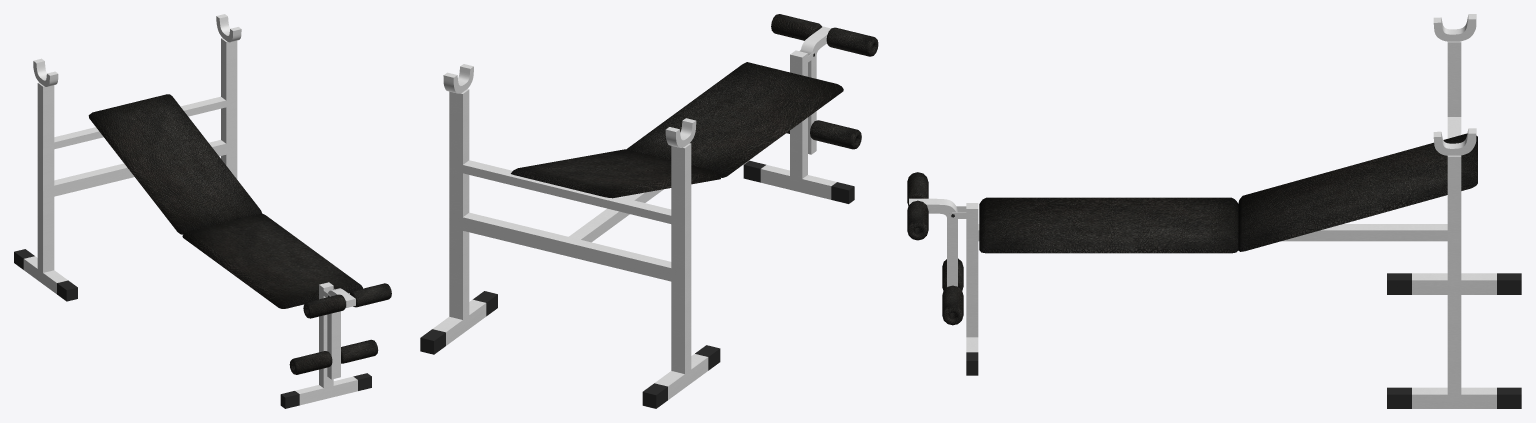
The model's file is Bench01.FBX.
The picture shows the model from 3 angles, left to right: view 1: azimuth 30°, elevation 25°; view 2: azimuth 150°, elevation 25°; view 3: azimuth 270°, elevation 25°; orthographic projection. The views are drawn at different scales.
Visible parts, largest first — view 1: Simulator_Bench01; view 2: Simulator_Bench01; view 3: Simulator_Bench01.
Part boxes in pixels (box(x1,y1,x2,y2)): Simulator_Bench01: box(14, 14, 391, 408); Simulator_Bench01: box(420, 14, 878, 408); Simulator_Bench01: box(907, 14, 1521, 408).
Bounding box in the file's own units: 1006 × 1063 × 2156.
